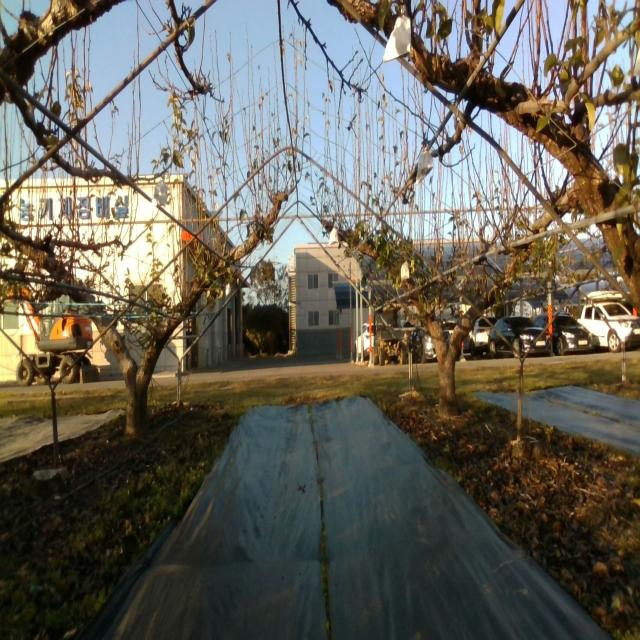pearbags: (382, 14, 412, 63), (151, 175, 168, 210), (416, 151, 432, 185), (328, 227, 340, 247)
